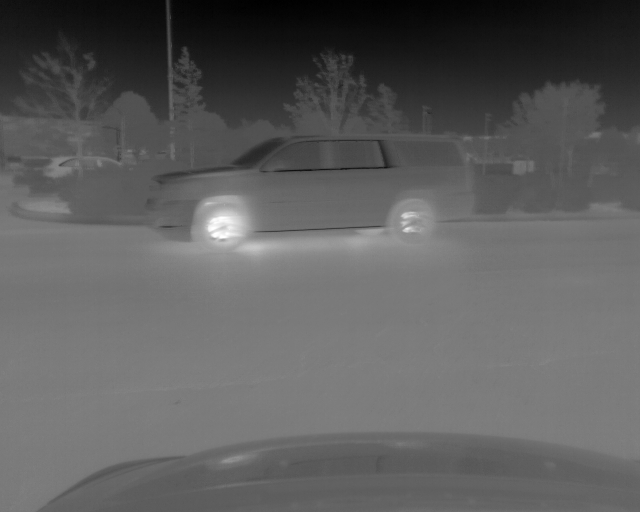car: (145, 131, 476, 253), (27, 155, 125, 176)
